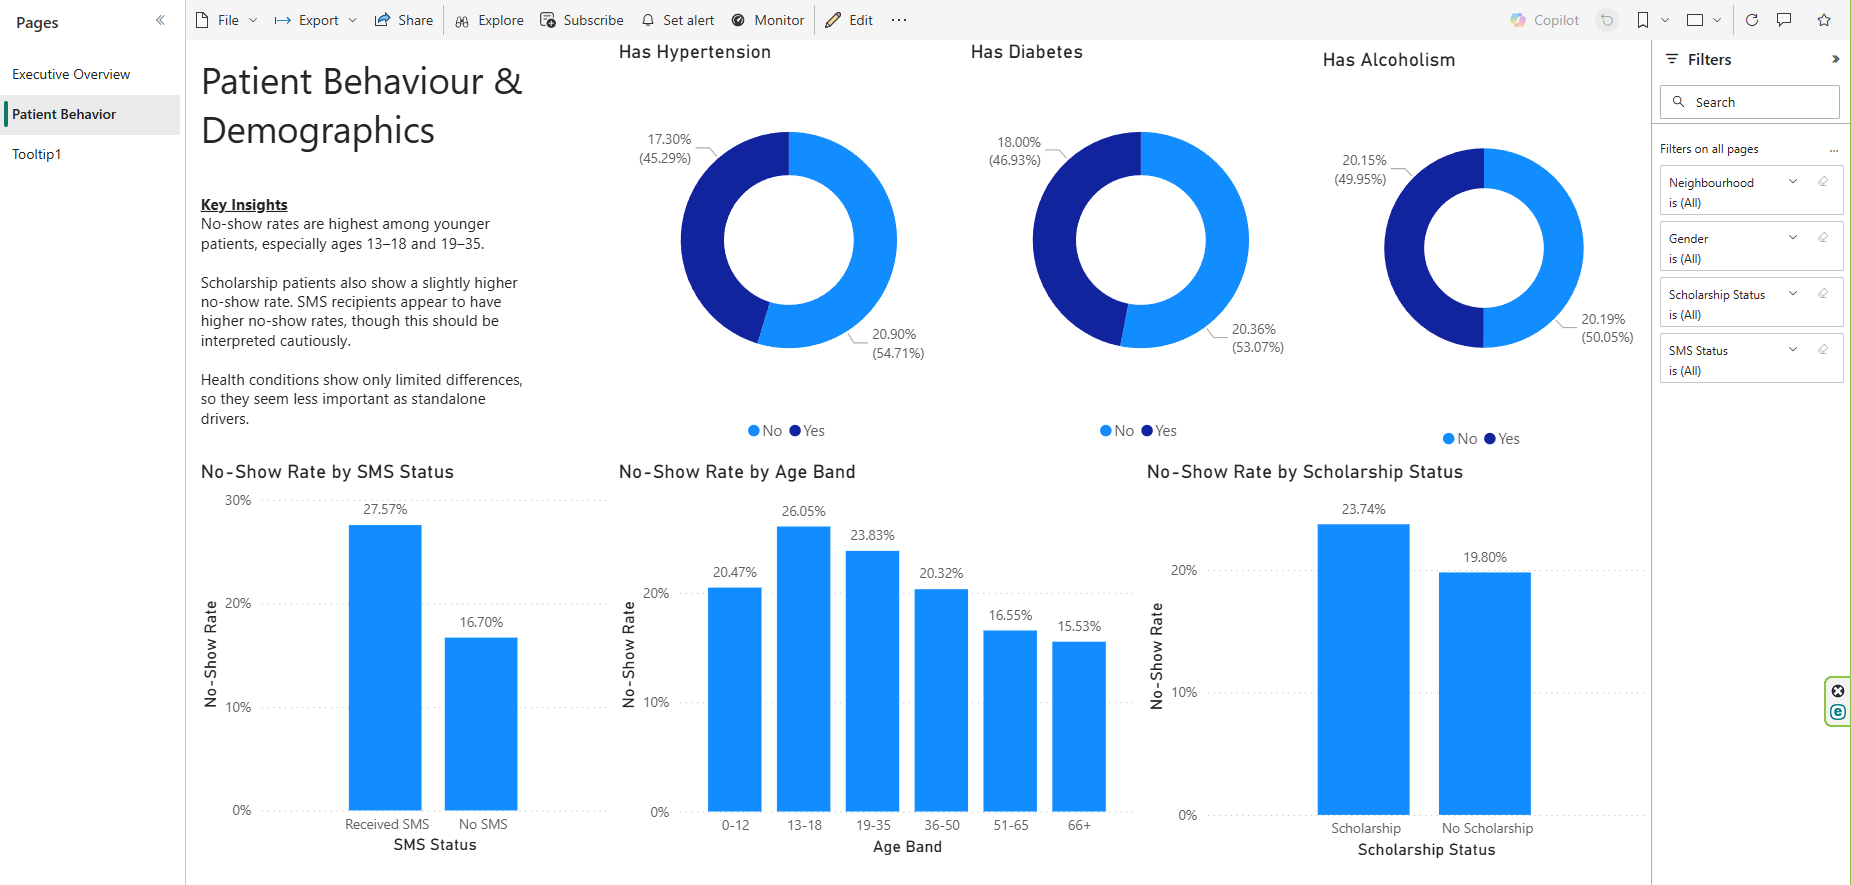

What the dashboard file says about the page in this screenshot:
{"tool":"powerbi","page":{"name":"Patient Behavior","canvas":[1280,720],"ordinal":1},"visuals":[{"type":"donutChart","title":"Has Alcoholism","fields":{"Category":["medical_appointments_cleaned.Has Alcoholism"],"Y":["medical_appointments_cleaned.No-Show Rate"]},"box":[988.2,6.8,291.8,359.9],"z":0},{"type":"donutChart","title":"Has Diabetes","fields":{"Category":["medical_appointments_cleaned.Has Diabetes"],"Y":["medical_appointments_cleaned.No-Show Rate"]},"box":[680.9,0,307.4,359.9],"z":1000},{"type":"donutChart","title":"Has Hypertension","fields":{"Category":["medical_appointments_cleaned.Has Hypertension"],"Y":["medical_appointments_cleaned.No-Show Rate"]},"box":[373.5,0,307.4,359.9],"z":2000},{"type":"columnChart","fields":{"Category":["medical_appointments_cleaned.SMS Status"],"Y":["medical_appointments_cleaned.No-Show Rate"]},"box":[7.8,366.7,365.7,349.2],"z":3000},{"type":"columnChart","fields":{"Y":["medical_appointments_cleaned.No-Show Rate"],"Category":["medical_appointments_cleaned.Age Band"]},"box":[373.5,366.7,461,350.2],"z":4000},{"type":"textbox","box":[7.9,7,302.1,121.7],"z":5000},{"type":"columnChart","fields":{"Y":["medical_appointments_cleaned.No-Show Rate"],"Category":["medical_appointments_cleaned.Scholarship Status"]},"box":[834.5,366.7,445.5,353.1],"z":5001},{"type":"textbox","box":[8,129,302,231],"z":5002}]}

Visuals, with their boxes on the page's 1280x720 design canvas (x1, y1, x2, y2). These are canvas units, not pixel positions in the 1851x885 screenshot, which may show the page scaled, cropped or inside an application window:
"Has Alcoholism" donutChart: (988,7,1280,367)
"Has Diabetes" donutChart: (681,0,988,360)
"Has Hypertension" donutChart: (374,0,681,360)
columnChart - medical_appointments_cleaned.SMS Status x medical_appointments_cleaned.No-Show Rate: (8,367,374,716)
columnChart - medical_appointments_cleaned.No-Show Rate x medical_appointments_cleaned.Age Band: (374,367,834,717)
textbox: (8,7,310,129)
columnChart - medical_appointments_cleaned.No-Show Rate x medical_appointments_cleaned.Scholarship Status: (834,367,1280,720)
textbox: (8,129,310,360)
